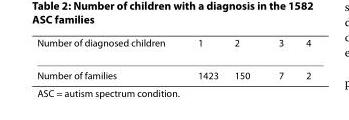table: (36, 36, 310, 80)
table column: (36, 36, 180, 80), (180, 36, 225, 80), (225, 36, 263, 80), (263, 36, 294, 80), (294, 36, 310, 80)
table column header: (36, 36, 310, 58)
table row: (36, 36, 310, 58), (36, 58, 310, 80)
